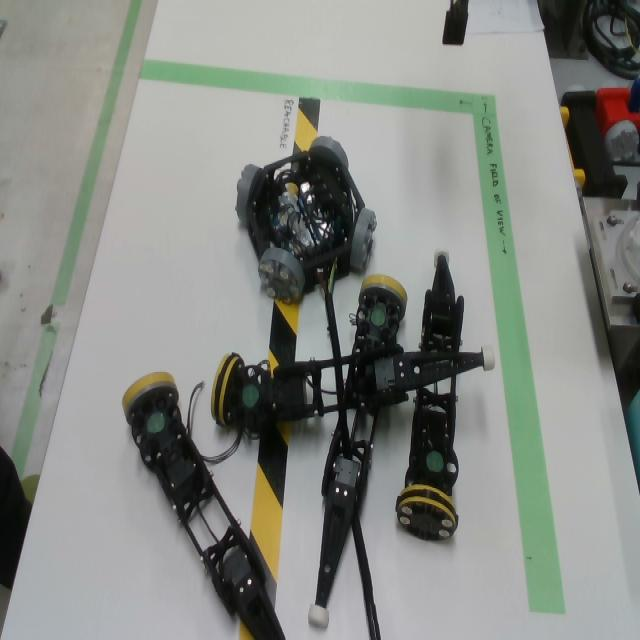body: (249, 153, 366, 295)
body_connector: (258, 248, 305, 303), (350, 208, 377, 273), (236, 164, 261, 227), (309, 136, 348, 168)
leg: (121, 372, 286, 640), (210, 345, 497, 433), (308, 409, 377, 629), (395, 376, 459, 543), (420, 247, 465, 352), (351, 275, 407, 356)
leg_connector: (395, 484, 459, 541), (122, 372, 180, 425), (211, 352, 245, 427), (358, 275, 408, 323)
leg_marker: (147, 412, 165, 433), (243, 385, 259, 407), (427, 452, 444, 471), (371, 309, 385, 325)
